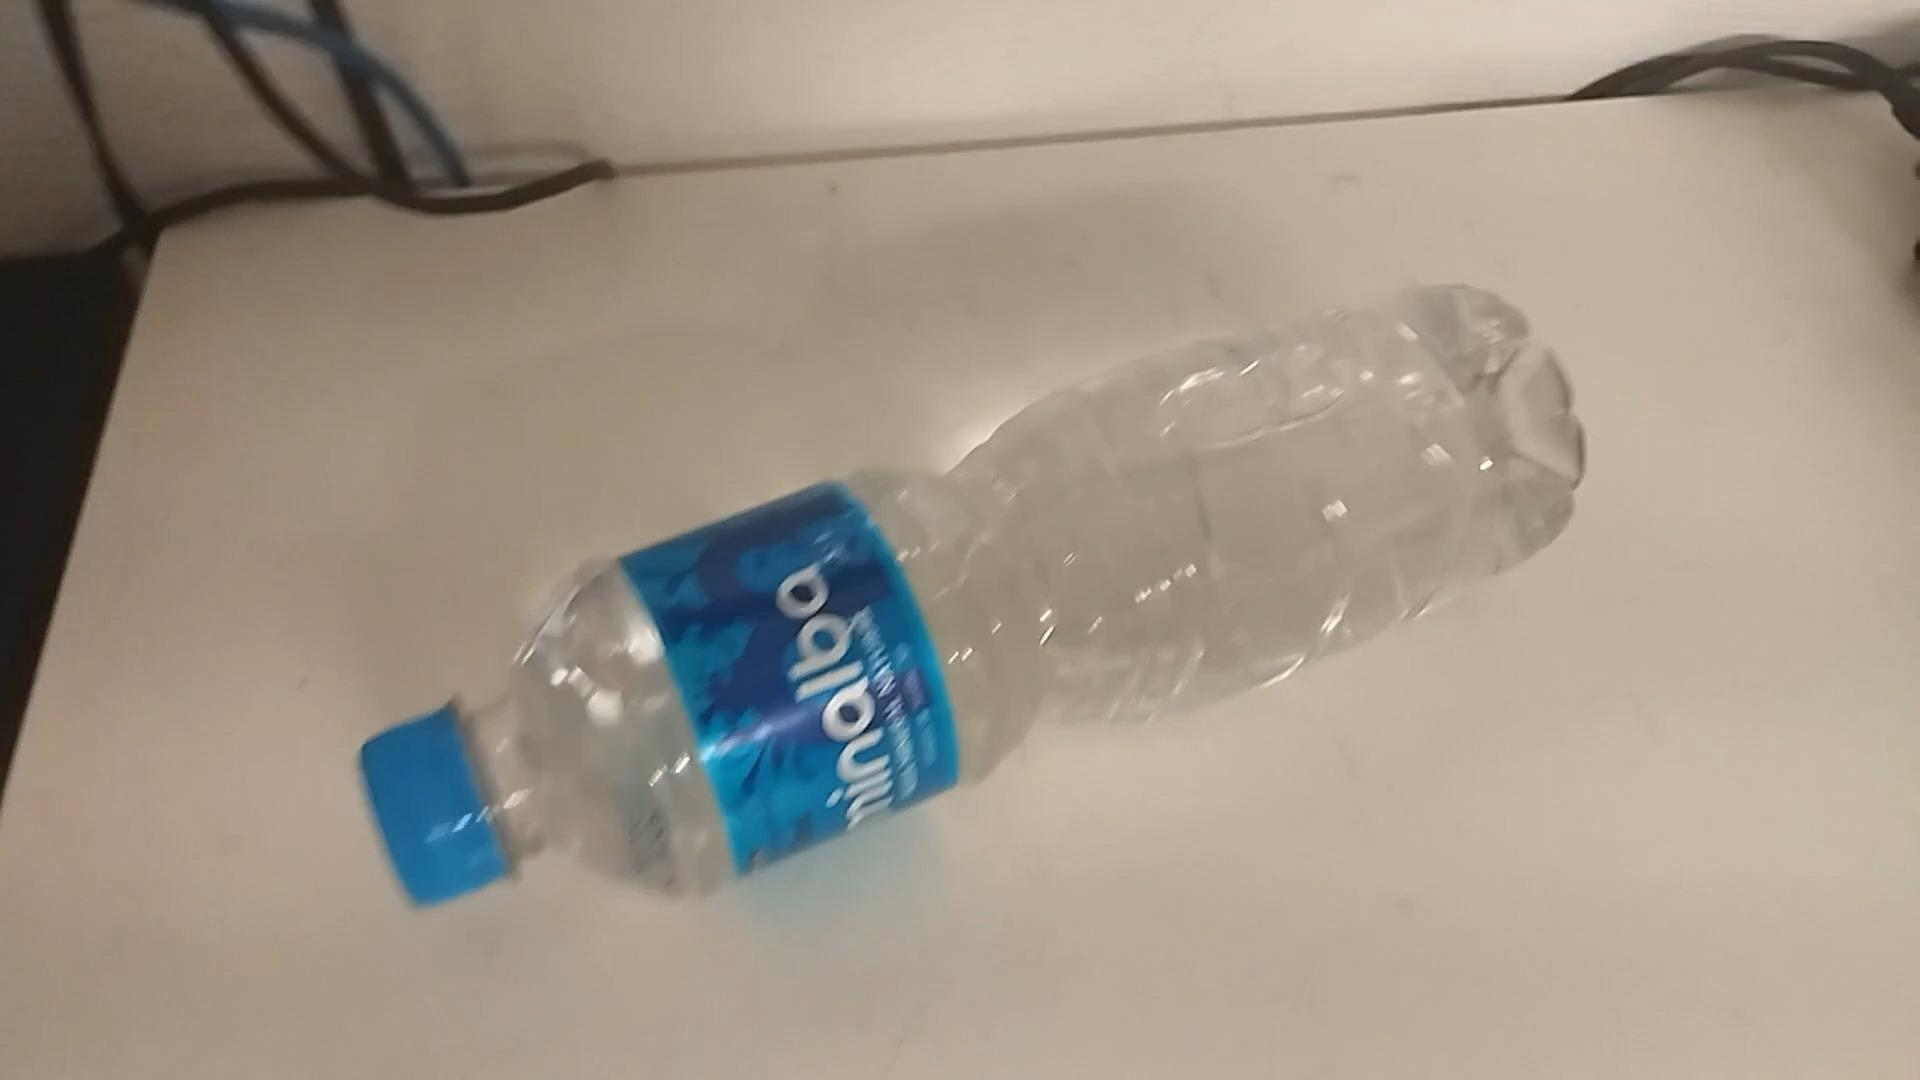agua: (349, 261, 1592, 909)
